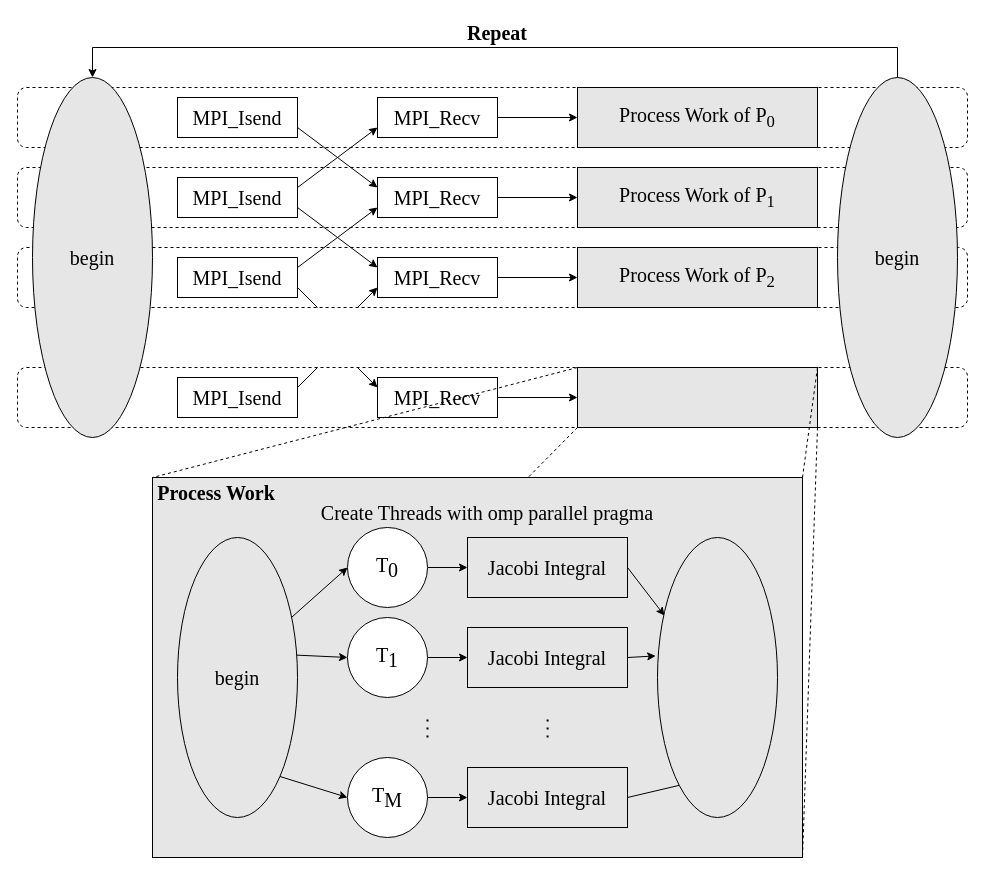
The diagram is 985 pixels wide and 876 high, and some of its shapes have lost their labels. Each missing label, with the centre of its shape:
"end" belongs at point (717, 677).
"Process Work of P N" belongs at point (697, 397).
